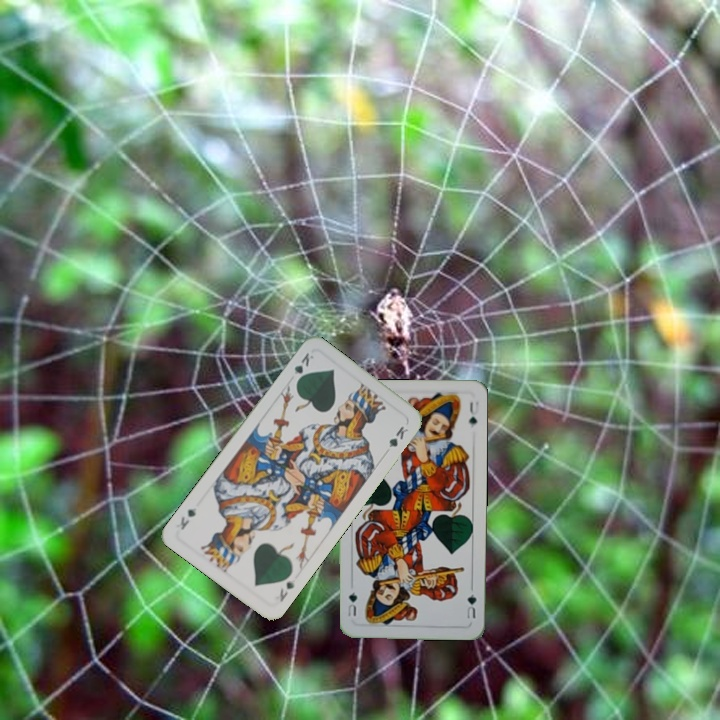GK: (290, 348, 317, 386), (275, 575, 298, 604)
GU: (463, 590, 479, 621)
